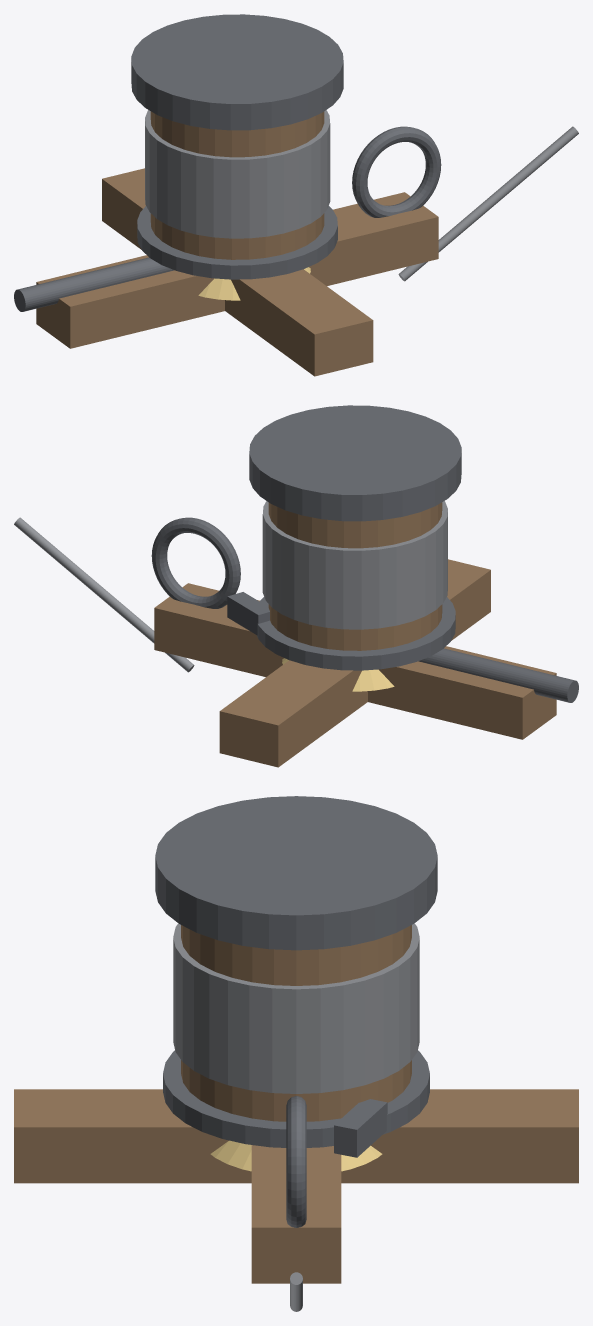
The model's file is mining_capstan.glb.
The picture shows the model from 3 angles, top to bottom: view 1: azimuth 30°, elevation 25°; view 2: azimuth 150°, elevation 25°; view 3: azimuth 270°, elevation 25°; orthographic projection. The views are drawn at different scales.
Visible parts, largest first — view 1: Cylinder.002, Cube, Cylinder.001, Cube.001, Cylinder, Cylinder.004, Torus, Cylinder.003, Cylinder.005, Cone; view 2: Cylinder.002, Cylinder.001, Cube, Cube.001, Cylinder, Cylinder.004, Torus, Cylinder.003, Cylinder.005, Cube.002, Cone; view 3: Cylinder.002, Cube.001, Cylinder.001, Cylinder, Cube, Cylinder.004, Torus, Cube.002, Cone.
Part boxes in pixels (<box>): Cylinder.002: <box>131,14,343,130</box>; Cube: <box>36,192,438,348</box>; Cylinder.001: <box>145,110,330,238</box>; Cube.001: <box>102,168,373,376</box>; Cylinder: <box>150,111,324,259</box>; Cylinder.004: <box>137,206,337,279</box>; Torus: <box>352,126,441,217</box>; Cylinder.003: <box>14,257,174,311</box>; Cylinder.005: <box>398,126,578,281</box>; Cone: <box>198,267,310,300</box>; Cylinder.002: <box>249,405,461,521</box>; Cylinder.001: <box>262,501,447,629</box>; Cube: <box>154,583,556,739</box>; Cube.001: <box>219,559,490,767</box>; Cylinder: <box>268,502,442,650</box>; Cylinder.004: <box>257,597,455,670</box>; Torus: <box>151,517,240,608</box>; Cylinder.003: <box>418,648,578,702</box>; Cylinder.005: <box>14,517,194,672</box>; Cube.002: <box>227,592,269,635</box>; Cone: <box>282,658,394,691</box>; Cylinder.002: <box>155,796,437,950</box>; Cube.001: <box>14,1089,578,1183</box>; Cylinder.001: <box>173,923,419,1093</box>; Cylinder: <box>181,925,411,1121</box>; Cube: <box>251,1145,341,1283</box>; Cylinder.004: <box>163,1050,429,1147</box>; Torus: <box>286,1096,306,1227</box>; Cube.002: <box>334,1099,387,1157</box>; Cone: <box>210,1140,382,1171</box>.
Size of the model in its own units: 3.33 by 1.5 by 2.2.
